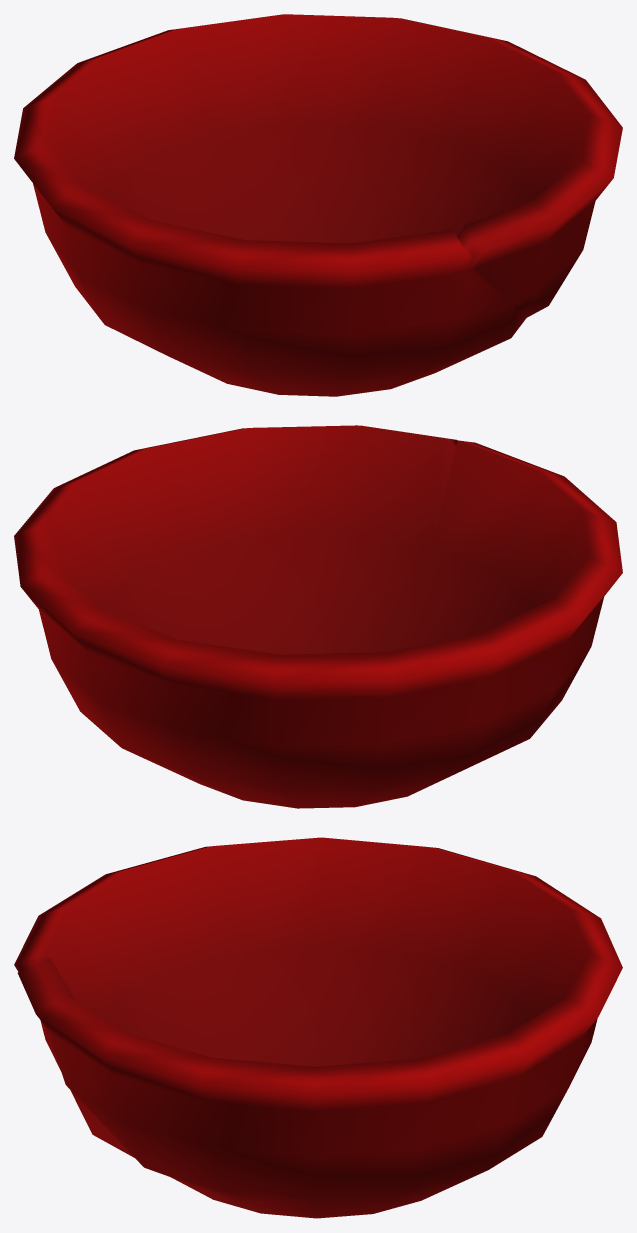
File: CeramicPot005.glb
The picture shows the model from 3 angles, top to bottom: view 1: azimuth 30°, elevation 25°; view 2: azimuth 150°, elevation 25°; view 3: azimuth 270°, elevation 25°; orthographic projection.
Parts seen in each view (by area): view 1: CeramicPot005; view 2: CeramicPot005; view 3: CeramicPot005.
Boxes of the visible parts, x1,y1,x2,y2 form: CeramicPot005: (14,14,622,396); CeramicPot005: (14,425,622,808); CeramicPot005: (14,837,622,1218).
Bounding box in the file's own units: 3.94 × 1.63 × 3.94.
